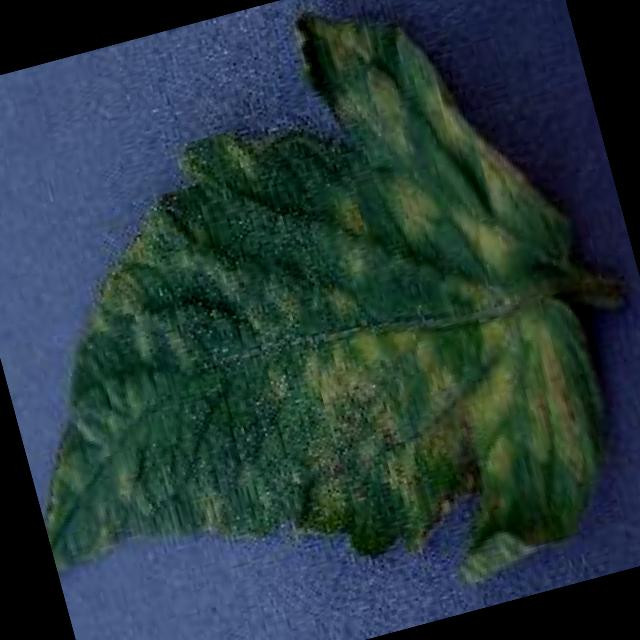leaf mold: (44, 10, 618, 585)
